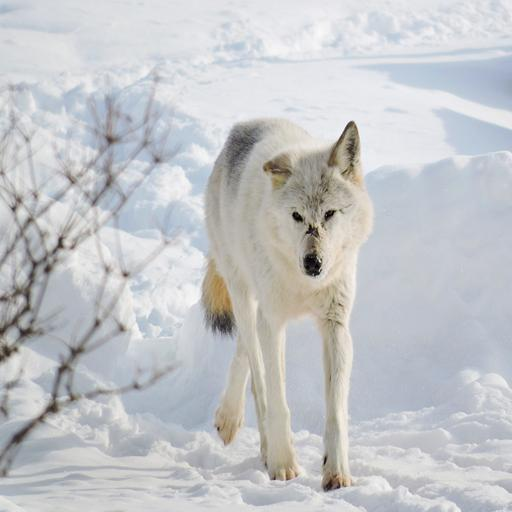Wolf: (186, 80, 378, 498)
